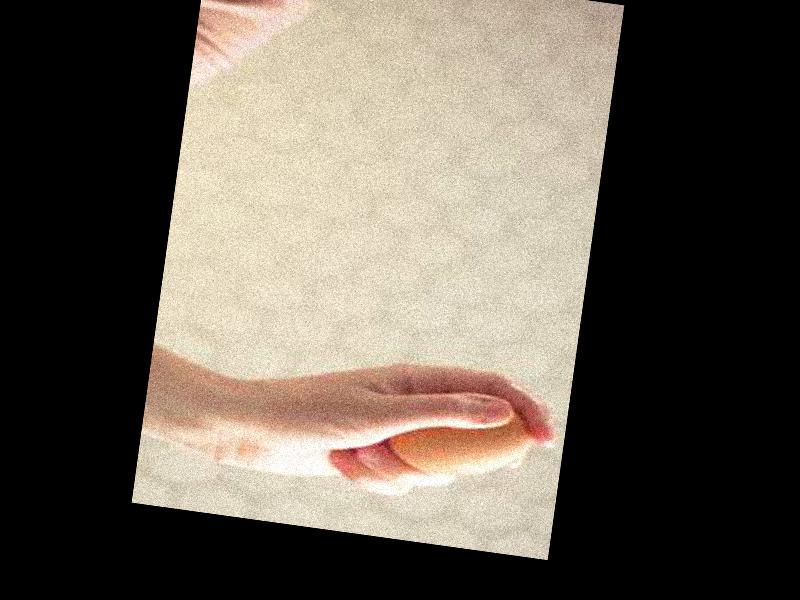Eggs: (385, 388, 535, 489)
